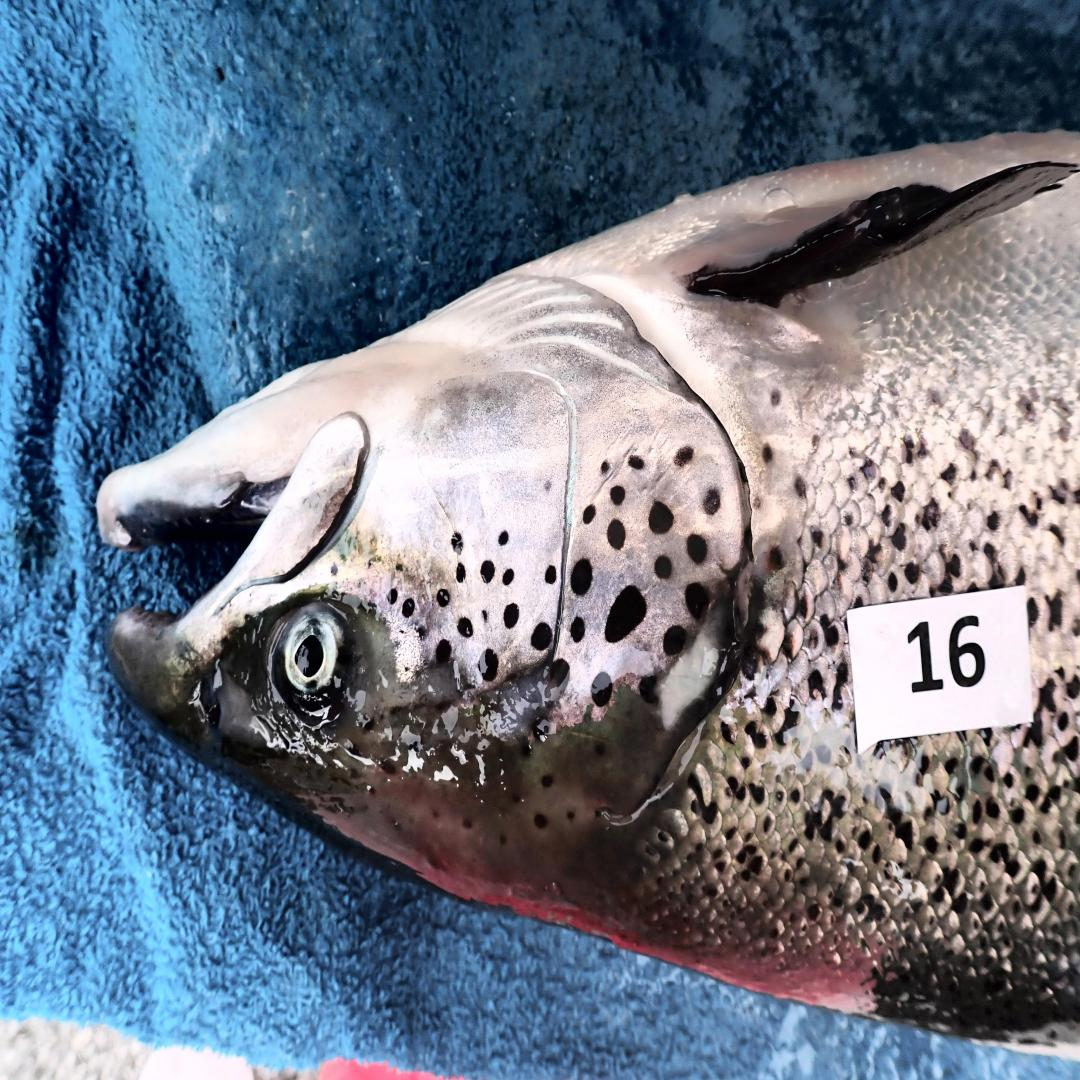spot: (605, 585, 648, 644), (686, 582, 709, 619), (648, 501, 673, 534), (591, 672, 614, 706), (572, 560, 593, 596), (662, 624, 686, 655), (548, 658, 570, 686), (479, 650, 498, 681), (532, 622, 553, 650), (688, 534, 707, 562), (639, 675, 658, 703), (608, 520, 626, 548), (654, 557, 673, 579), (705, 489, 721, 515), (435, 638, 451, 664), (675, 447, 694, 467), (570, 616, 584, 641), (743, 524, 753, 559), (401, 596, 416, 619), (504, 605, 519, 627), (481, 560, 496, 582), (458, 616, 472, 638), (610, 487, 624, 506), (582, 503, 595, 523), (544, 565, 557, 585), (437, 588, 449, 608), (502, 568, 515, 585), (451, 532, 462, 551), (456, 562, 466, 582), (629, 456, 643, 470), (388, 588, 399, 605), (498, 532, 508, 546), (416, 627, 426, 638), (330, 563, 338, 576), (601, 461, 610, 472), (394, 564, 403, 573), (482, 609, 487, 622)
